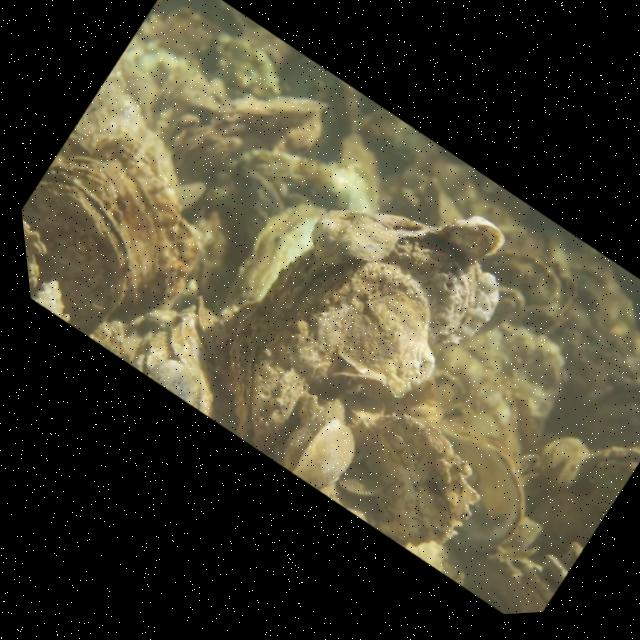Oyster-Closed: (226, 207, 509, 453), (330, 411, 482, 548), (22, 171, 132, 336), (420, 418, 528, 553), (163, 293, 236, 432), (282, 403, 353, 489), (130, 329, 175, 378)
Oyster-Indeterminate: (44, 138, 200, 323), (151, 359, 212, 419), (336, 463, 386, 501)
